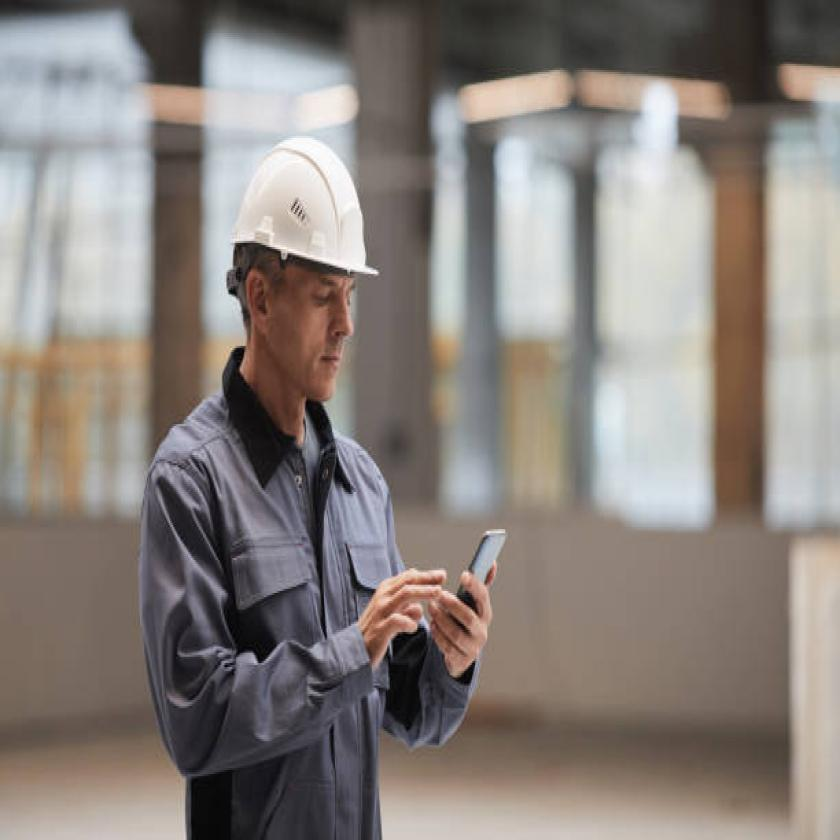Con_casco: (231, 138, 375, 408)
